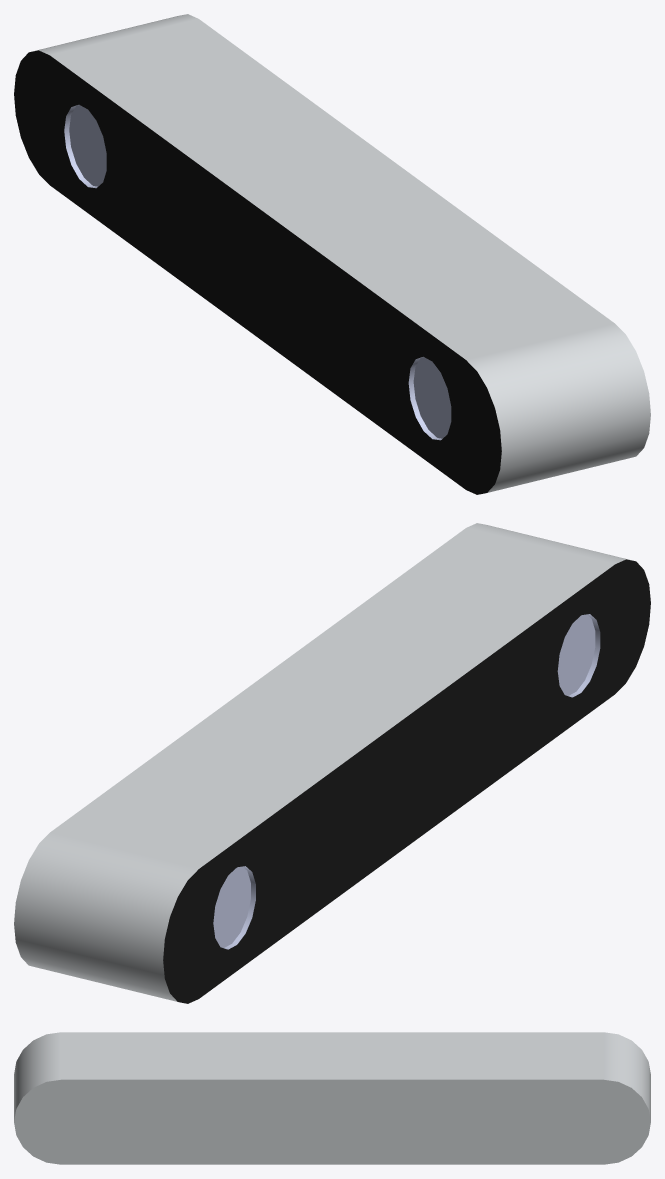
File: ZED Camera.fbx
The picture shows the model from 3 angles, top to bottom: view 1: azimuth 30°, elevation 25°; view 2: azimuth 150°, elevation 25°; view 3: azimuth 270°, elevation 25°; orthographic projection. The views are drawn at different scales.
Visible parts, largest first — view 1: Imported1; view 2: Imported1; view 3: Imported1.
Part boxes in pixels (x1,y1,x2,y2): Imported1: (14, 14, 650, 494); Imported1: (14, 523, 650, 1003); Imported1: (14, 1032, 650, 1164).
Size of the model in its own units: 1.18 by 0.9843 by 6.69.
